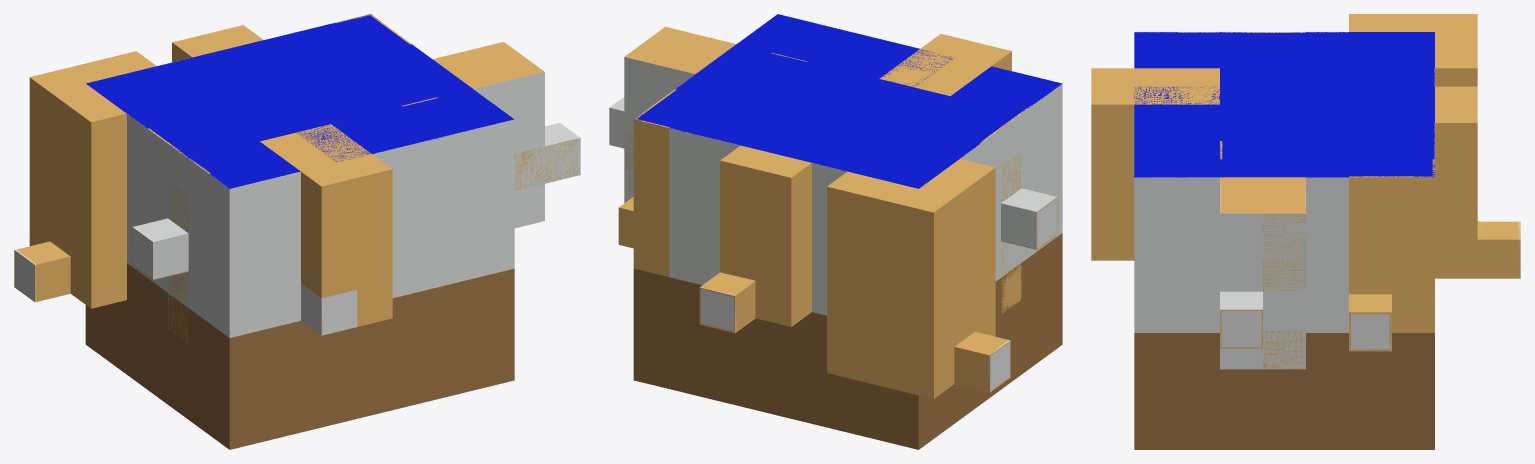
Rendered from No_Floor_Room_1.fbx.
3 renders of one model, left to right at view 1: azimuth 30°, elevation 25°; view 2: azimuth 150°, elevation 25°; view 3: azimuth 270°, elevation 25°, orthographic. The views are drawn at different scales.
Parts seen in each view (by area): view 1: Room_1, Room_1_Sky, Building_4, Building_3, Building_1, Building_2, Building_5, Doorways.005, Doorways.003, Doorways.002; view 2: Room_1, Room_1_Sky, Building_4, Building_2, Building_6, Building_3, Building_1, Building_5, Doorways.004, Doorways.003, Doorways.002; view 3: Room_1, Room_1_Sky, Building_6, Building_3, Building_2, Building_1, Building_4, Doorways, Doorways.001.
Part boxes in pixels (bbox=[...]): Room_1: bbox=[85, 23, 580, 449]; Room_1_Sky: bbox=[86, 14, 513, 188]; Building_4: bbox=[14, 51, 156, 308]; Building_3: bbox=[260, 124, 392, 334]; Building_1: bbox=[402, 42, 580, 190]; Building_2: bbox=[172, 25, 263, 62]; Building_5: bbox=[132, 128, 210, 344]; Doorways.005: bbox=[321, 290, 357, 335]; Doorways.003: bbox=[15, 250, 36, 301]; Doorways.002: bbox=[132, 227, 154, 278]; Room_1: bbox=[609, 16, 1062, 449]; Room_1_Sky: bbox=[634, 14, 1062, 188]; Building_4: bbox=[827, 159, 1010, 398]; Building_2: bbox=[699, 145, 811, 333]; Building_6: bbox=[618, 89, 676, 276]; Building_3: bbox=[879, 34, 1011, 96]; Building_1: bbox=[624, 27, 807, 170]; Building_5: bbox=[980, 98, 1057, 314]; Doorways.004: bbox=[700, 288, 736, 332]; Doorways.003: bbox=[988, 340, 1010, 391]; Doorways.002: bbox=[1035, 198, 1056, 248]; Room_1: bbox=[1134, 32, 1434, 449]; Room_1_Sky: bbox=[1134, 32, 1434, 177]; Building_6: bbox=[1349, 159, 1434, 351]; Building_3: bbox=[1091, 68, 1219, 260]; Building_2: bbox=[1435, 86, 1520, 278]; Building_1: bbox=[1220, 141, 1305, 369]; Building_4: bbox=[1349, 14, 1477, 86]; Doorways: bbox=[1220, 308, 1262, 348]; Doorways.001: bbox=[1349, 312, 1391, 351].
Size of the model in its own units: 6500 by 3502 by 5000.
